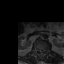CCS_stenosis: (40, 48, 42, 55)
LFS_stenosis: (43, 48, 45, 53)
LLS_stenosis: (42, 48, 43, 53)
RFS_normal: (37, 47, 39, 52)
RLS_stenosis: (39, 48, 40, 53)
